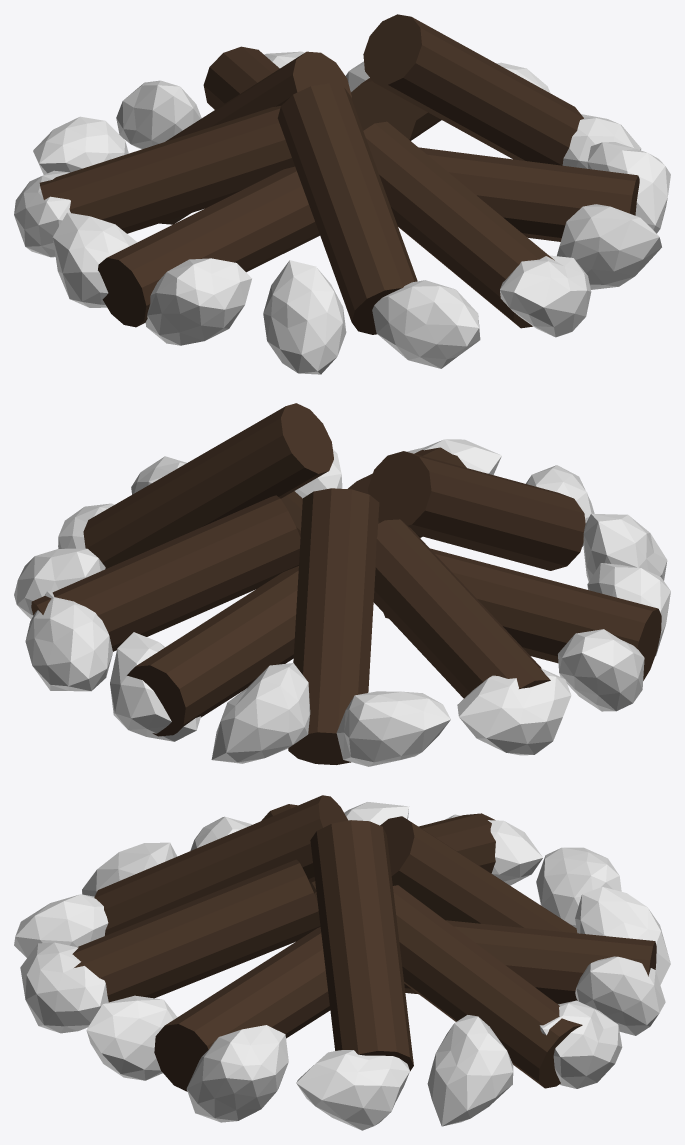
Rendered from Bonfire.fbx.
The picture shows the model from 3 angles, top to bottom: view 1: azimuth 30°, elevation 25°; view 2: azimuth 150°, elevation 25°; view 3: azimuth 270°, elevation 25°; orthographic projection. The views are drawn at different scales.
Parts seen in each view (by area): view 1: Wood, Rocks; view 2: Wood, Rocks; view 3: Wood, Rocks.
Boxes of the visible parts, left/top/right/bottom form: Wood: left=39, top=14, right=639, bottom=334; Rocks: left=14, top=51, right=670, bottom=374; Wood: left=31, top=403, right=661, bottom=764; Rocks: left=14, top=439, right=670, bottom=766; Wood: left=72, top=795, right=656, bottom=1091; Rocks: left=14, top=802, right=670, bottom=1130.
Bounding box in the file's own units: 2.1 × 0.8668 × 2.12.
